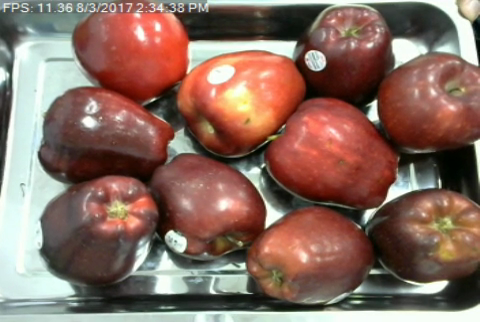Apple: (262, 94, 403, 210), (172, 47, 309, 159), (241, 203, 378, 311), (36, 82, 178, 185), (35, 173, 162, 288), (148, 151, 267, 265), (69, 0, 193, 103), (362, 183, 480, 288), (373, 50, 480, 157), (292, 3, 398, 107)
